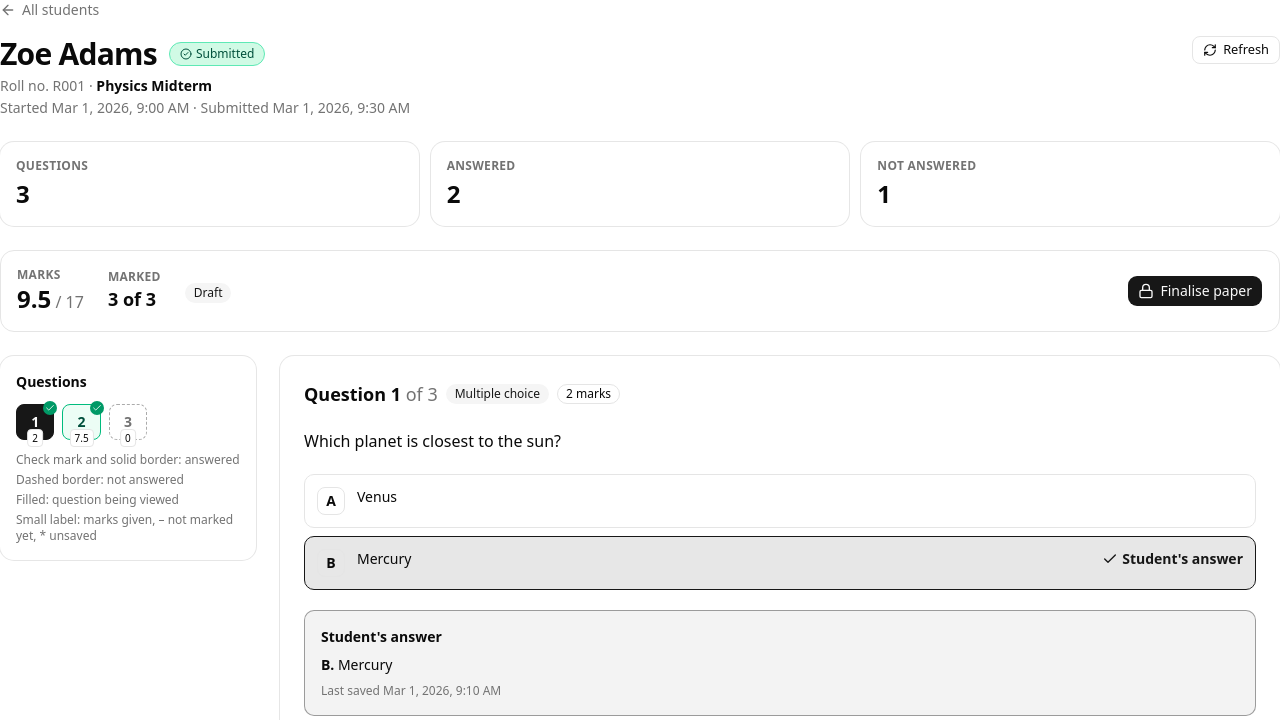
Test: finalising and reopening a paper › asks for confirmation, then finalises with the paper version it showed
This screenshot has width=1280, height=720.
Expected: the element named "Paper marks" is shown, [17,267,232,315]
Click the button "Finalise paper" at [1195, 291], box [1127,275,1263,307]
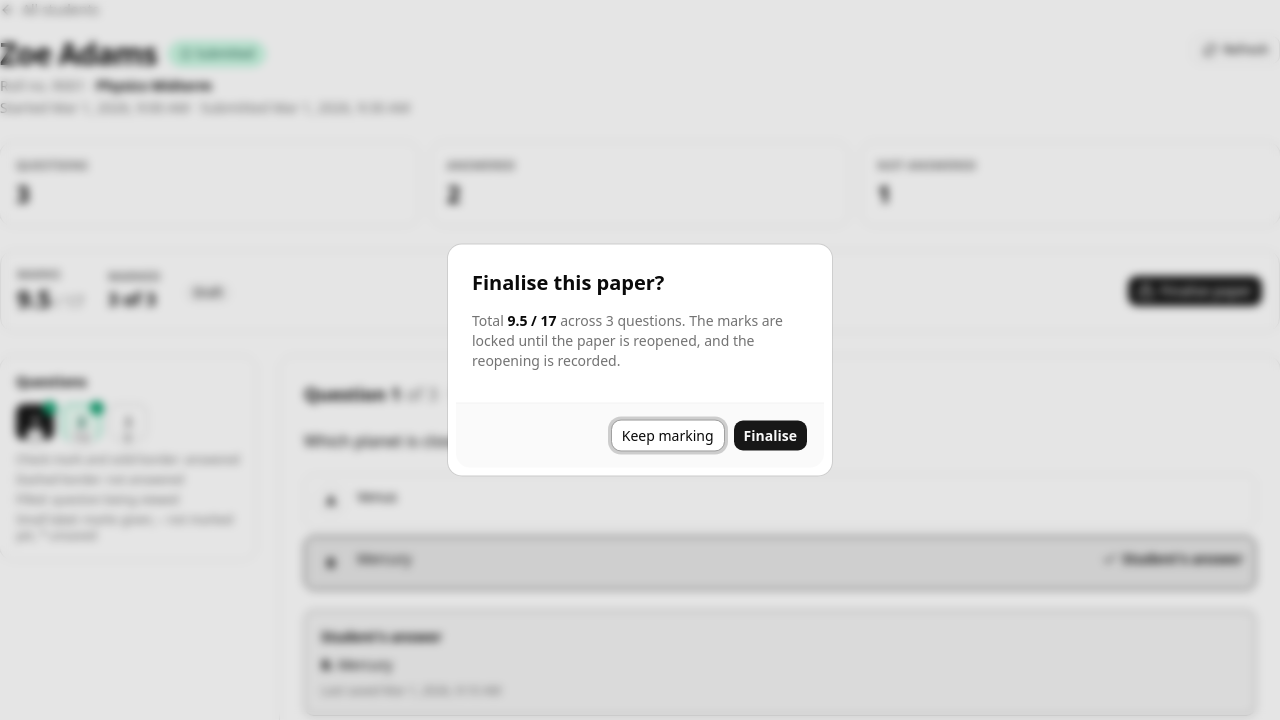
Now the heading "Finalise this paper?" is shown, box [472,268,664,296]
Now the text "9.5 / 17" is shown, box [507,310,556,330]
Click the button "Finalise" at [770, 436], box [733,420,808,452]
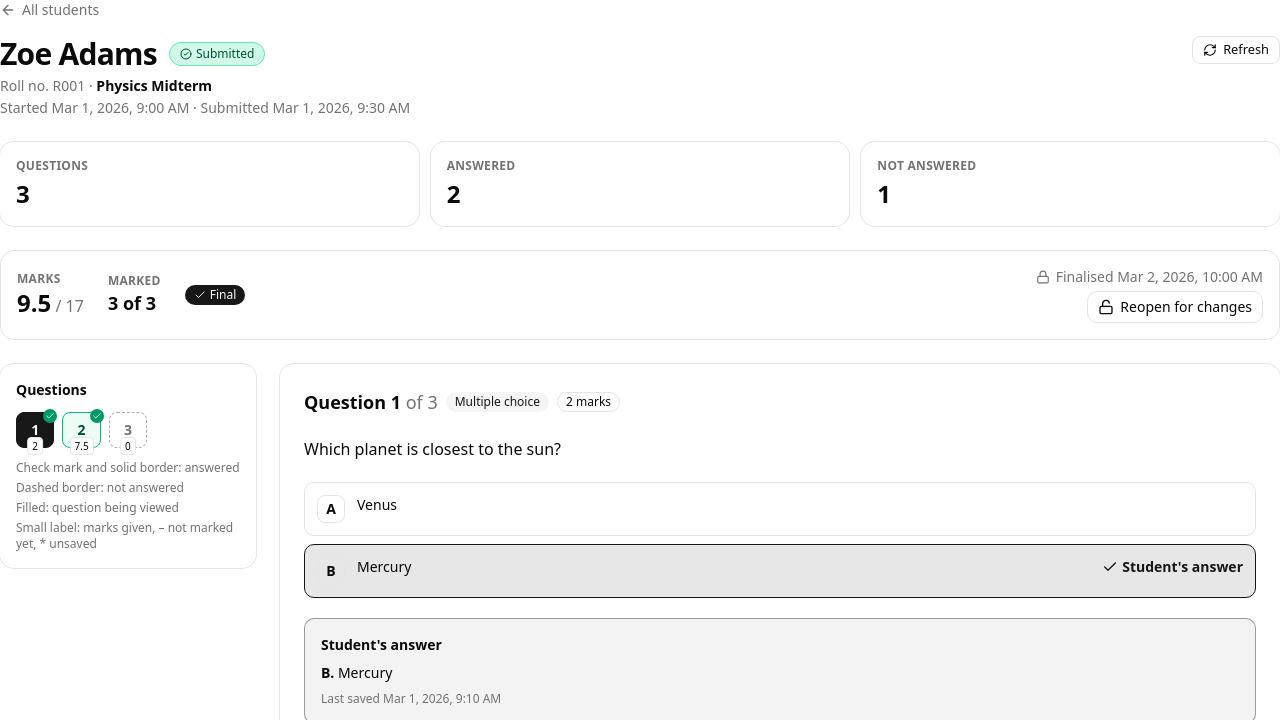
Now the dialog is gone
Now the text "Final" is shown, box [185,285,245,305]
Now the button "Reopen for changes" is shown, box [1087,291,1263,323]
